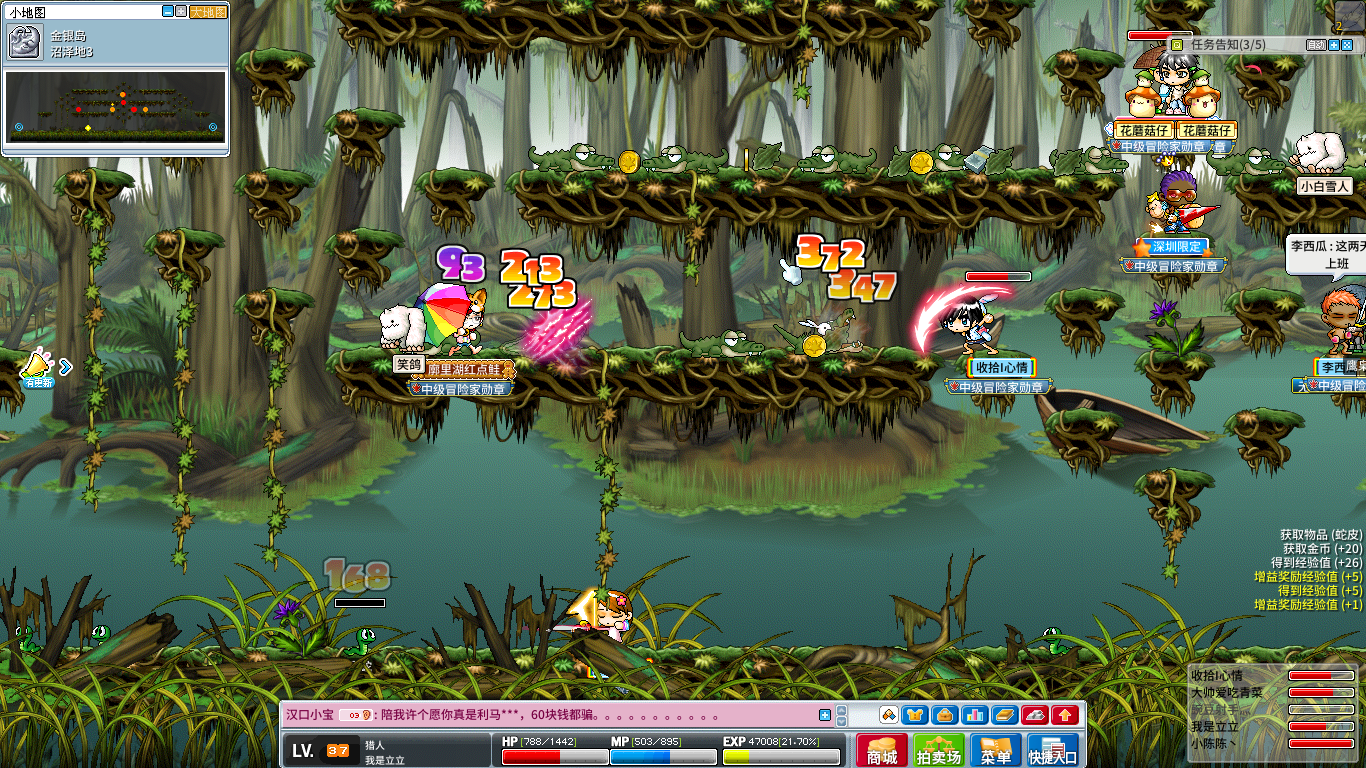monster: (343, 629, 376, 656), (1042, 627, 1070, 654), (16, 626, 40, 652), (91, 625, 110, 646)
